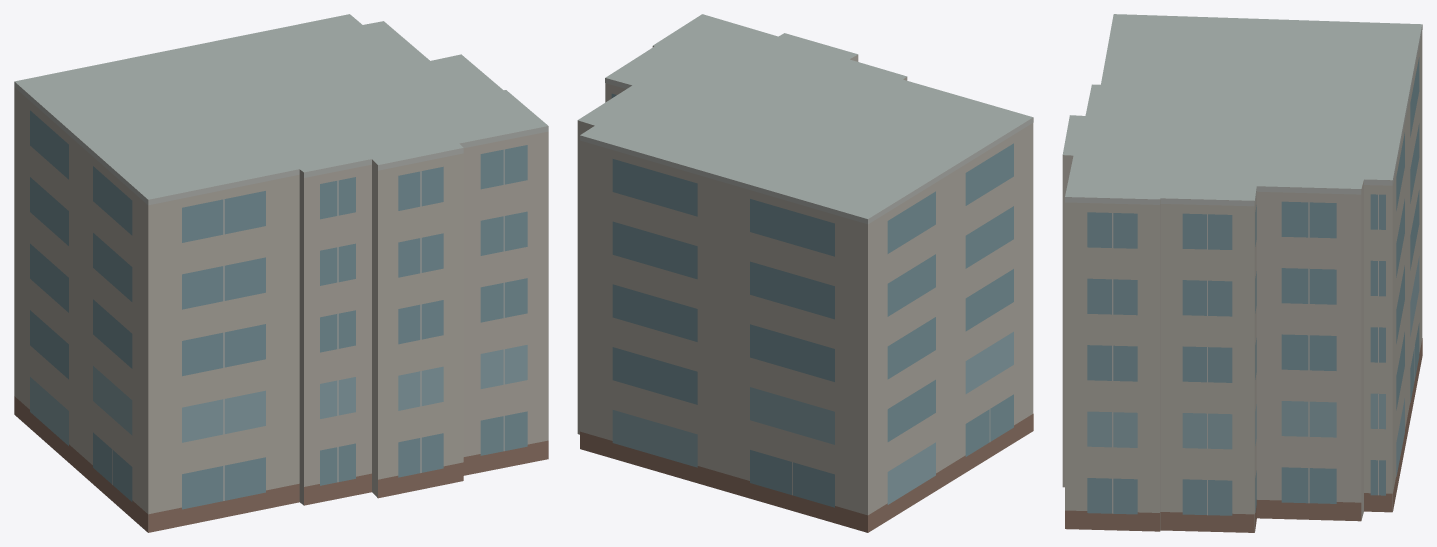
Rendered from survey-upis-32652709.glb.
The picture shows the model from 3 angles, left to right: view 1: azimuth 30°, elevation 25°; view 2: azimuth 150°, elevation 25°; view 3: azimuth 270°, elevation 25°; orthographic projection. The views are drawn at different scales.
Parts seen in each view (by area): view 1: survey-upis-32652709.tmp; view 2: survey-upis-32652709.tmp; view 3: survey-upis-32652709.tmp.
Boxes of the visible parts, x1,y1,x2,y2 form: survey-upis-32652709.tmp: [14, 14, 548, 532]; survey-upis-32652709.tmp: [577, 14, 1033, 532]; survey-upis-32652709.tmp: [1062, 14, 1422, 532].
Size of the model in its own units: 17.62 by 14.6 by 14.35.
